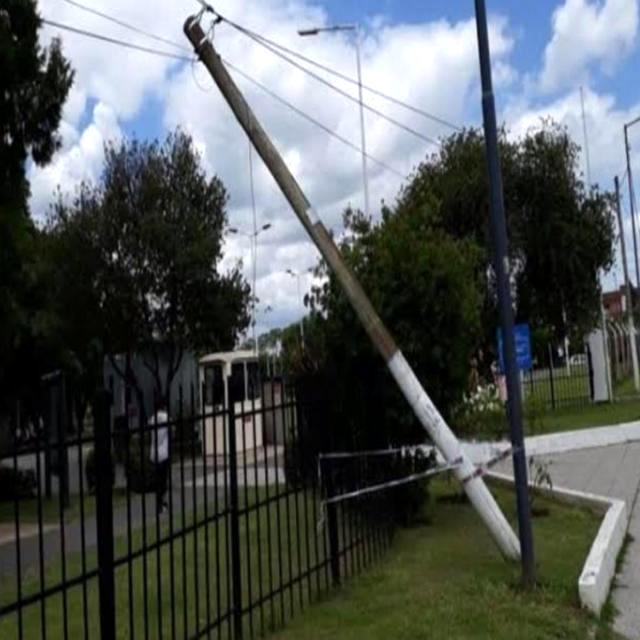Broken Pole: (182, 11, 524, 570)
